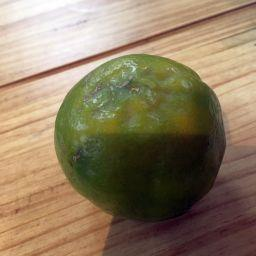Unripe: (55, 57, 225, 222)
